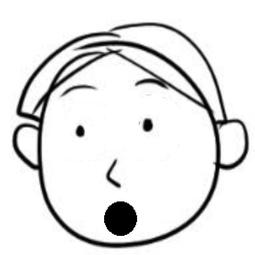ear: (214, 111, 253, 176), (12, 123, 44, 173)
eyebrow: (126, 73, 165, 89), (61, 84, 97, 95)
open_mouth: (96, 201, 142, 238)
pointy_nose: (101, 157, 129, 190)
small_eye: (136, 118, 161, 134), (72, 125, 90, 136)
